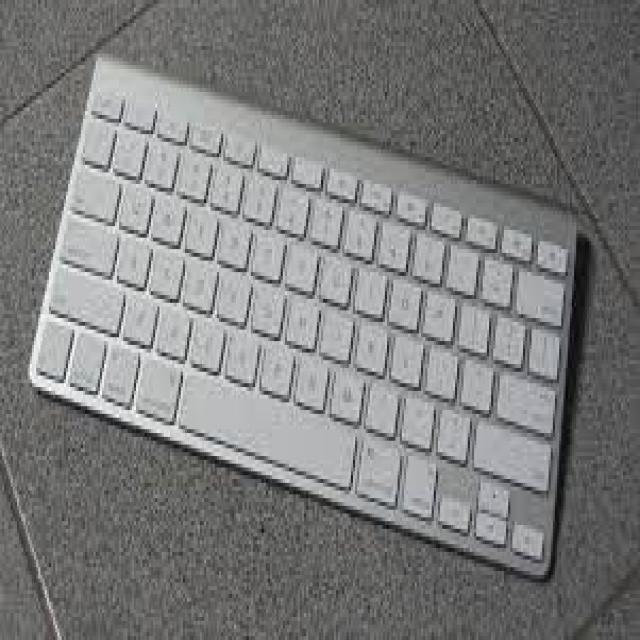others: (24, 38, 578, 571)
